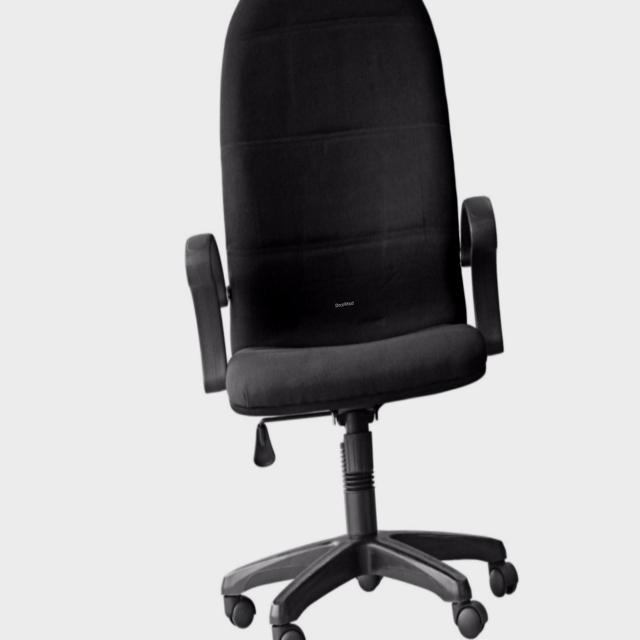Chair: (180, 3, 522, 640)
